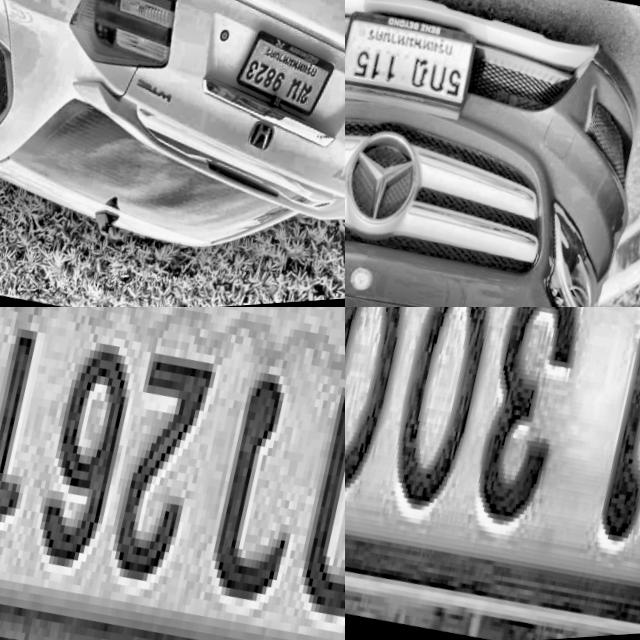license-plate: (0, 307, 345, 640), (345, 307, 640, 640), (345, 0, 481, 134), (223, 22, 341, 140)
